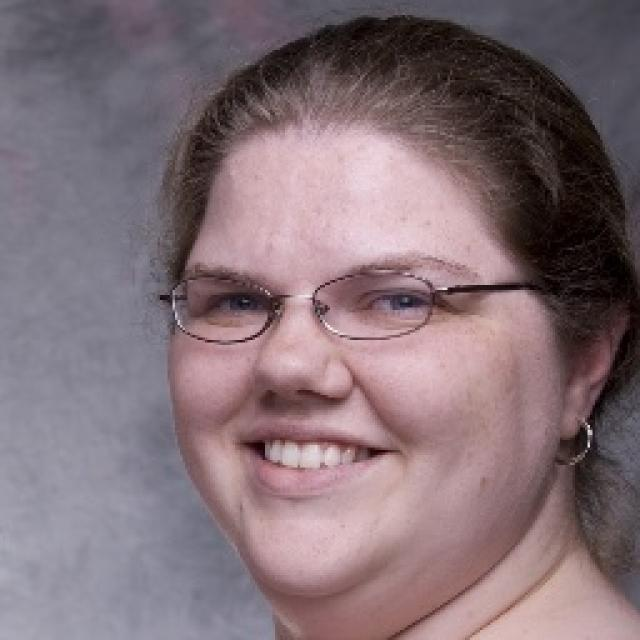earlobe: (557, 384, 591, 442)
eye: (359, 283, 439, 321), (198, 288, 274, 324)
nose: (252, 388, 344, 423)
wholeear: (557, 286, 629, 444)
